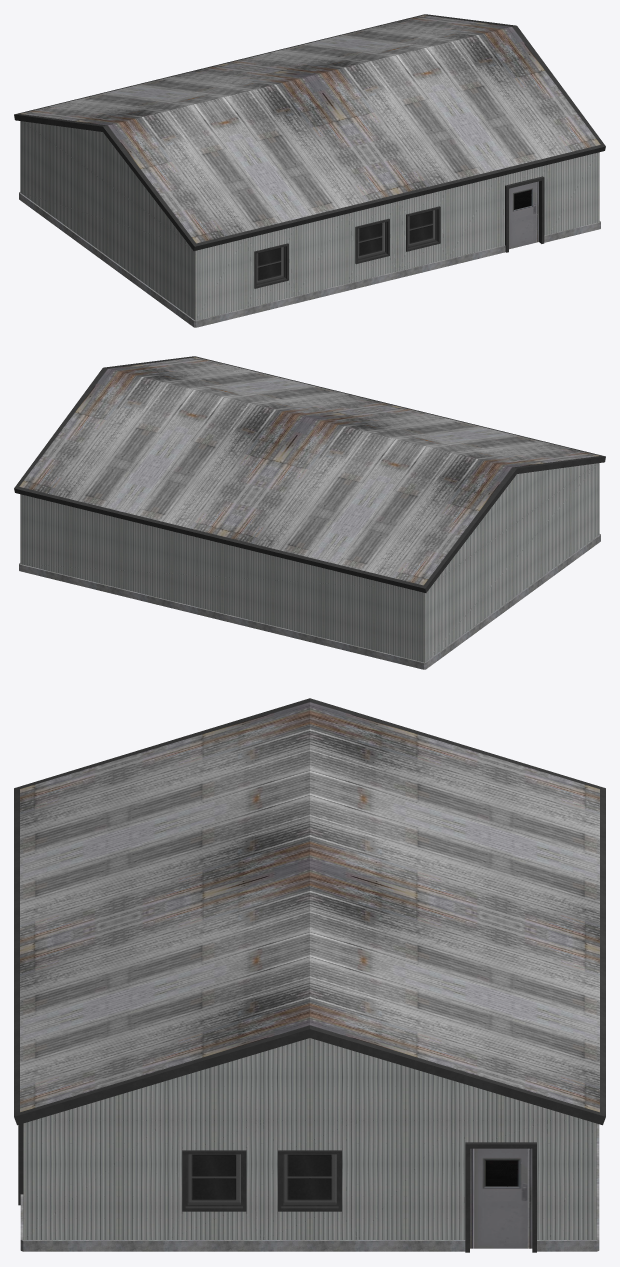
File: WareHouse.fbx
The picture shows the model from 3 angles, top to bottom: view 1: azimuth 30°, elevation 25°; view 2: azimuth 150°, elevation 25°; view 3: azimuth 270°, elevation 25°; orthographic projection. The views are drawn at different scales.
Parts seen in each view (by area): view 1: Object_3, Object_4, Object_6, Object_5, Object_7, Object_2; view 2: Object_3, Object_4, Object_6, Object_5; view 3: Object_3, Object_4, Object_6, Object_5, Object_2, Object_7.
Boxes of the visible parts, x1,y1,x2,y2 form: Object_3: [20, 15, 600, 243]; Object_4: [20, 121, 599, 320]; Object_6: [14, 14, 605, 288]; Object_5: [19, 192, 600, 327]; Object_7: [256, 210, 435, 282]; Object_2: [509, 181, 538, 249]; Object_3: [19, 357, 599, 585]; Object_4: [20, 463, 599, 662]; Object_6: [14, 356, 605, 592]; Object_5: [19, 534, 600, 669]; Object_3: [20, 702, 599, 1112]; Object_4: [23, 1038, 596, 1239]; Object_6: [14, 698, 605, 1252]; Object_5: [20, 1123, 599, 1251]; Object_2: [470, 1148, 532, 1248]; Object_7: [187, 1154, 336, 1203].
Bounding box in the file's own units: 1638 × 521 × 1238.
Materials: 6 (6 with a texture image).
